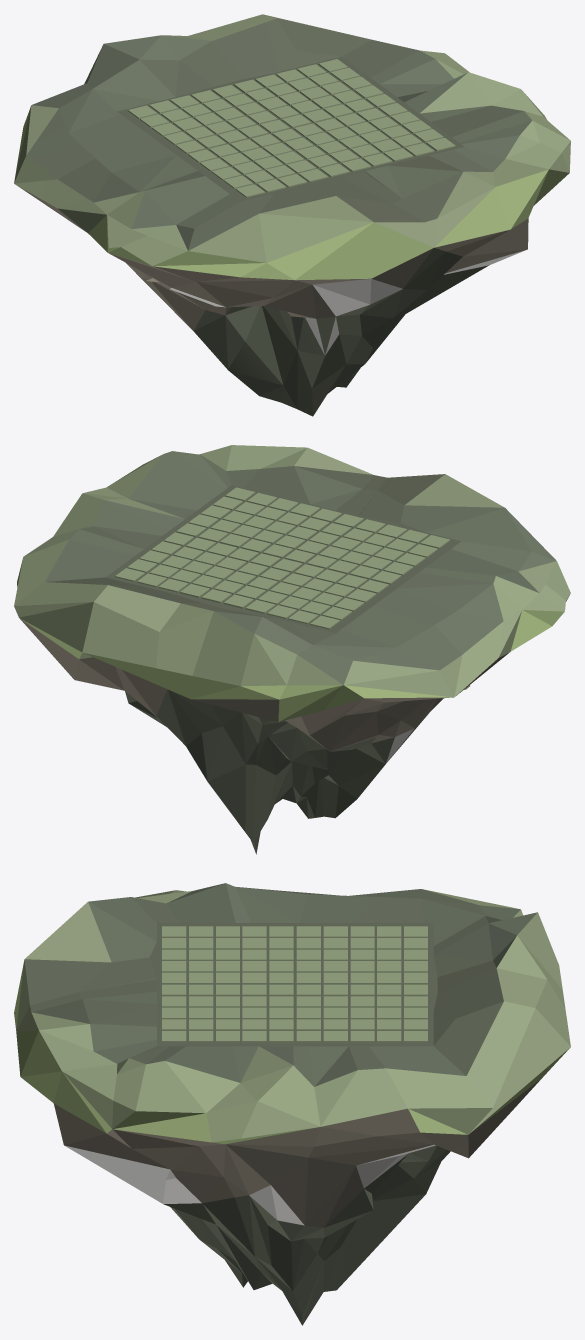
File: EnvironmentTest1.fbx
3 views of the same model, one above another, from view 1: azimuth 30°, elevation 25°; view 2: azimuth 150°, elevation 25°; view 3: azimuth 270°, elevation 25° (orthographic). The views are drawn at different scales.
Visible parts, largest first — view 1: Island, Tiles; view 2: Island, Tiles; view 3: Island, Tiles.
Part boxes in pixels (x1,y1,x2,y2): Island: (14, 14, 570, 416); Tiles: (128, 59, 455, 197); Island: (14, 445, 570, 854); Tiles: (115, 487, 450, 629); Island: (14, 883, 570, 1325); Tiles: (162, 926, 427, 1042).
Bounding box in the file's own units: 3972 × 2662 × 3720.
